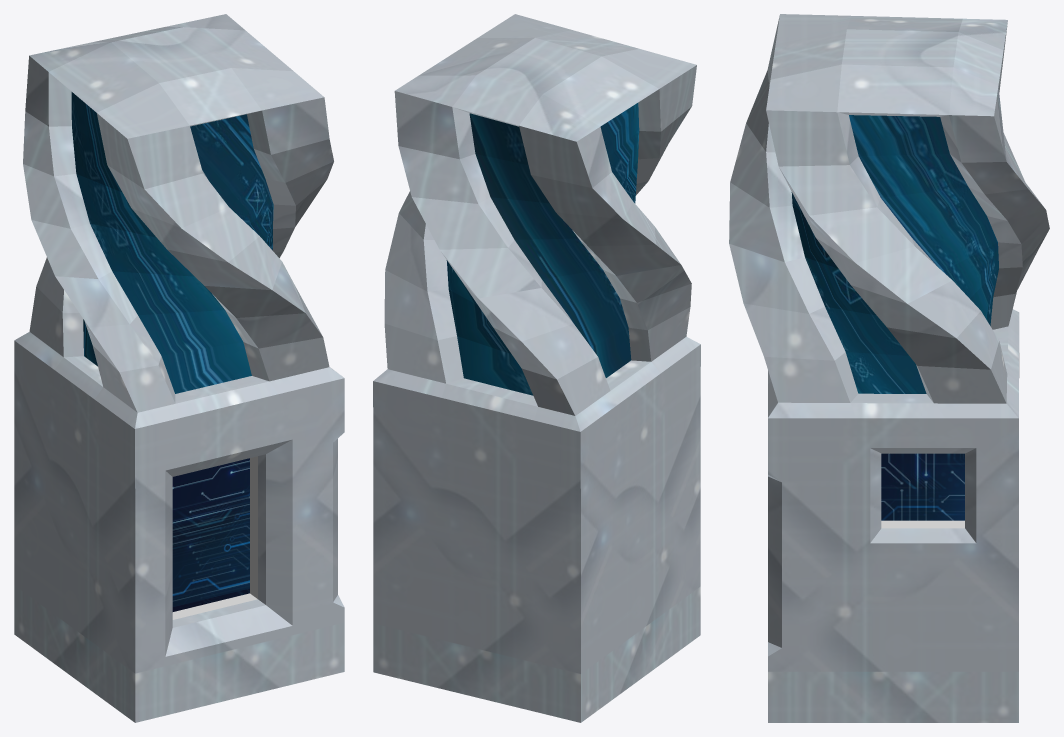
The model's file is Block05.fbx.
The picture shows the model from 3 angles, left to right: view 1: azimuth 30°, elevation 25°; view 2: azimuth 150°, elevation 25°; view 3: azimuth 270°, elevation 25°; orthographic projection. The views are drawn at different scales.
Visible parts, largest first — view 1: Cube.002; view 2: Cube.002; view 3: Cube.002.
Boxes of the visible parts, <box> form: Cube.002: <box>14,14,344,722</box>; Cube.002: <box>373,14,700,722</box>; Cube.002: <box>729,14,1049,722</box>.
Bounding box in the file's own units: 256 × 256 × 544.
